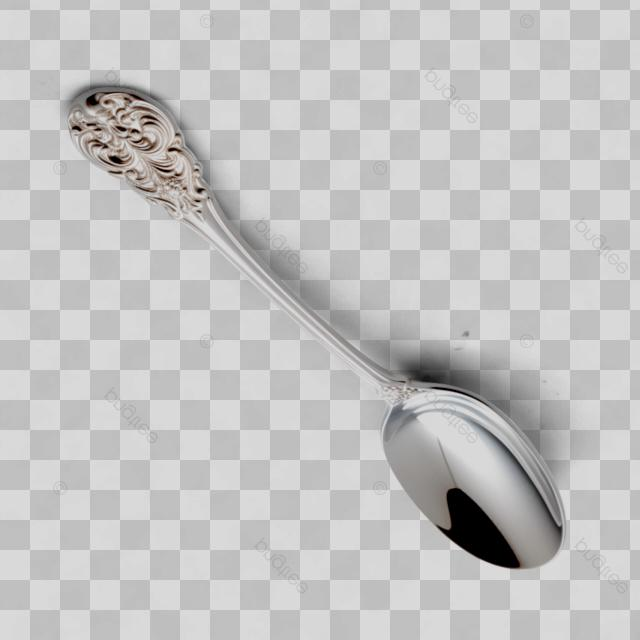Sendok: (50, 57, 577, 603)
